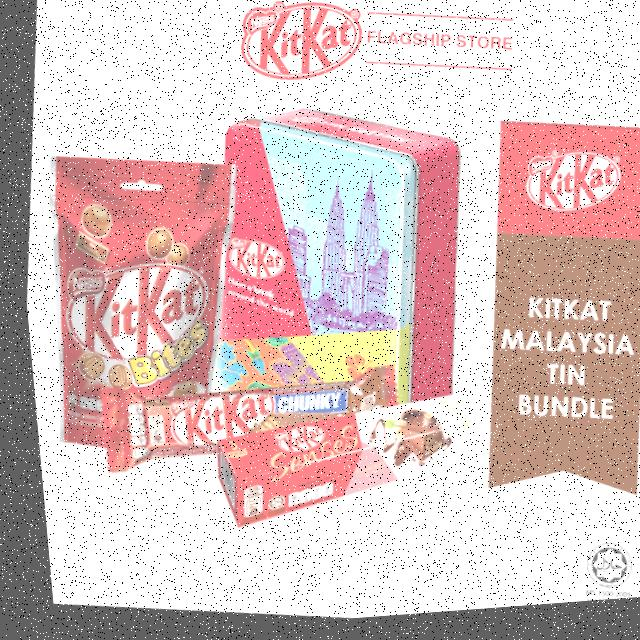kitkat: (14, 144, 246, 469), (86, 336, 407, 511), (201, 366, 491, 558)
